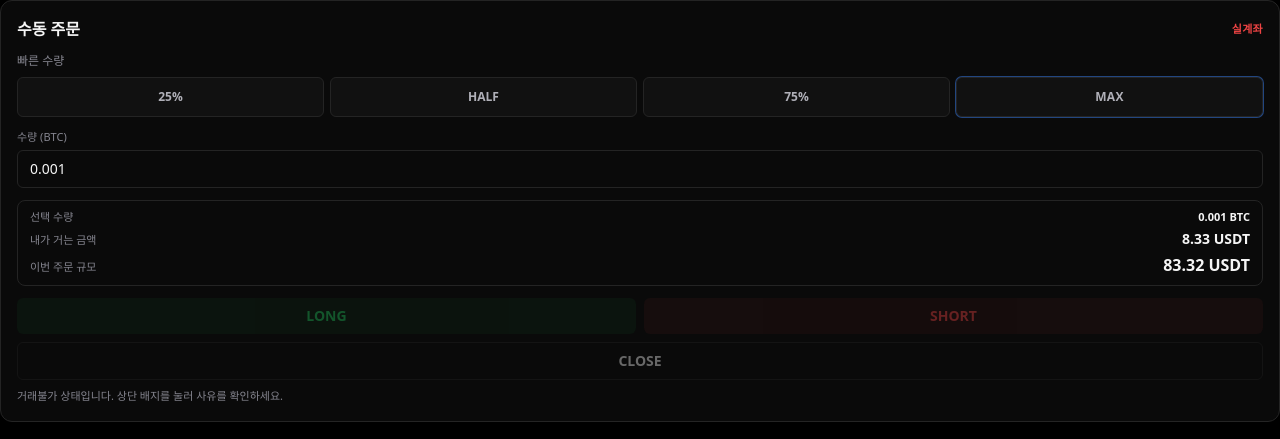
Scenario: the quick size row on the ticket › stays usable while the screen is 거래불가, because choosing a size is not trading
The image size is (1280, 439).
Click the button with test id "live-preset-MAX": (1110, 97) [956,77,1263,117]
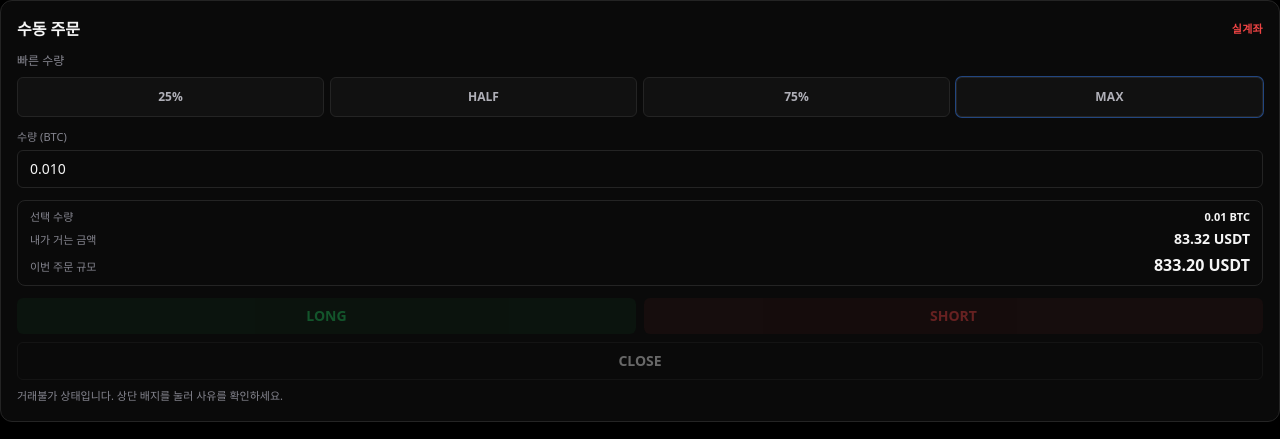
Expected: the button with test id "live-long" is disabled, [17,298,636,334]
Expected: the field with test id "live-qty-input" holds "0.010", [17,150,1263,188]
